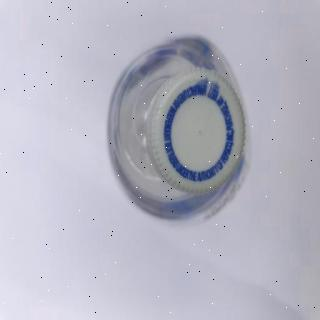Plastic-bottle: (106, 34, 255, 229)
